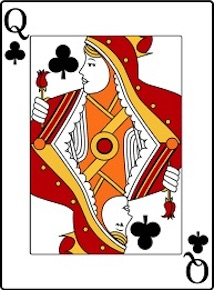QueenOfClubs: (1, 3, 213, 290)
